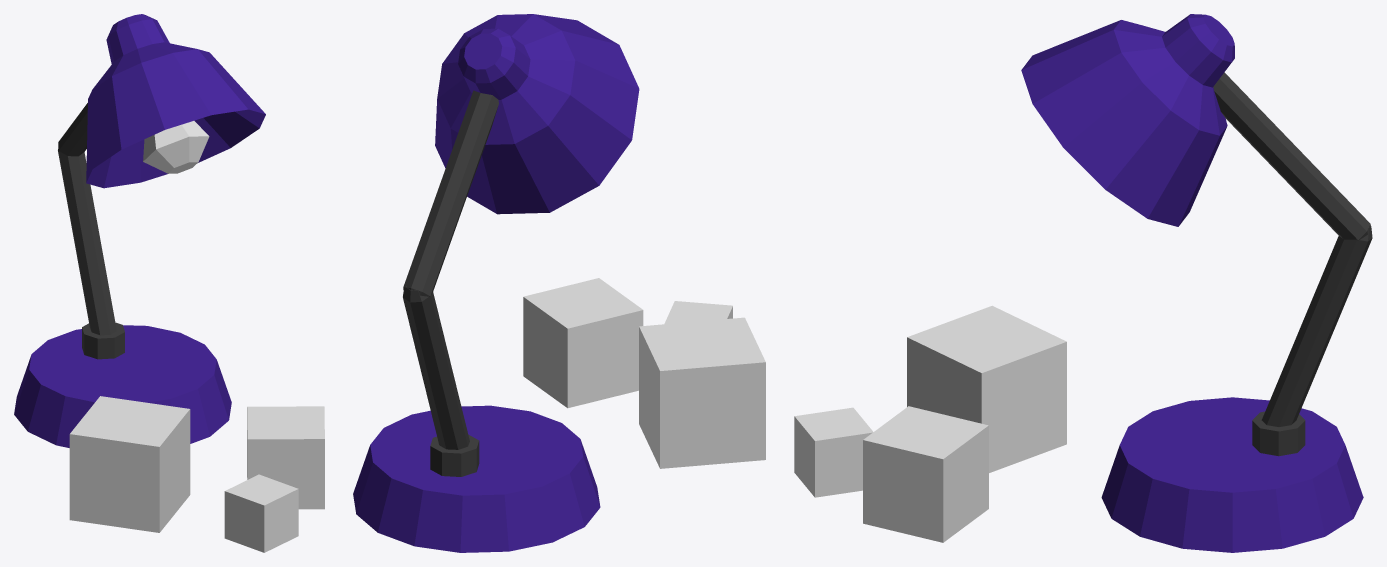
File: light.fbx
3 views of the same model, side by side, from view 1: azimuth 30°, elevation 25°; view 2: azimuth 150°, elevation 25°; view 3: azimuth 270°, elevation 25° (orthographic). The views are drawn at different scales.
Visible parts, largest first — view 1: Lamp, Base, Cube_Big, Cube_Mid, Stem_Bottom, Cube_Small, Stem_Top; view 2: Lamp, Base, Cube_Big, Cube_Mid, Stem_Top, Stem_Bottom, Cube_Small; view 3: Base, Lamp, Cube_Big, Cube_Mid, Stem_Bottom, Stem_Top, Cube_Small.
Boxes of the visible parts, left/top/right/bottom form: Lamp: left=86, top=14, right=265, bottom=188; Base: left=14, top=322, right=231, bottom=447; Cube_Big: left=69, top=396, right=190, bottom=532; Cube_Mid: left=247, top=406, right=324, bottom=509; Stem_Bottom: left=58, top=149, right=116, bottom=335; Cube_Small: left=224, top=474, right=298, bottom=552; Stem_Top: left=58, top=103, right=87, bottom=156; Lamp: left=435, top=14, right=639, bottom=214; Base: left=353, top=405, right=600, bottom=552; Cube_Big: left=639, top=317, right=765, bottom=468; Cube_Mid: left=523, top=278, right=643, bottom=408; Stem_Top: left=403, top=90, right=498, bottom=296; Stem_Bottom: left=403, top=286, right=469, bottom=449; Cube_Small: left=664, top=301, right=732, bottom=324; Base: left=1101, top=397, right=1363, bottom=552; Lamp: left=1021, top=14, right=1234, bottom=226; Cube_Big: left=907, top=305, right=1066, bottom=472; Cube_Mid: left=863, top=406, right=988, bottom=542; Stem_Bottom: left=1261, top=225, right=1372, bottom=426; Stem_Top: left=1213, top=72, right=1370, bottom=240; Cube_Small: left=794, top=407, right=873, bottom=497.
Size of the model in its own units: 188 by 291 by 317.
